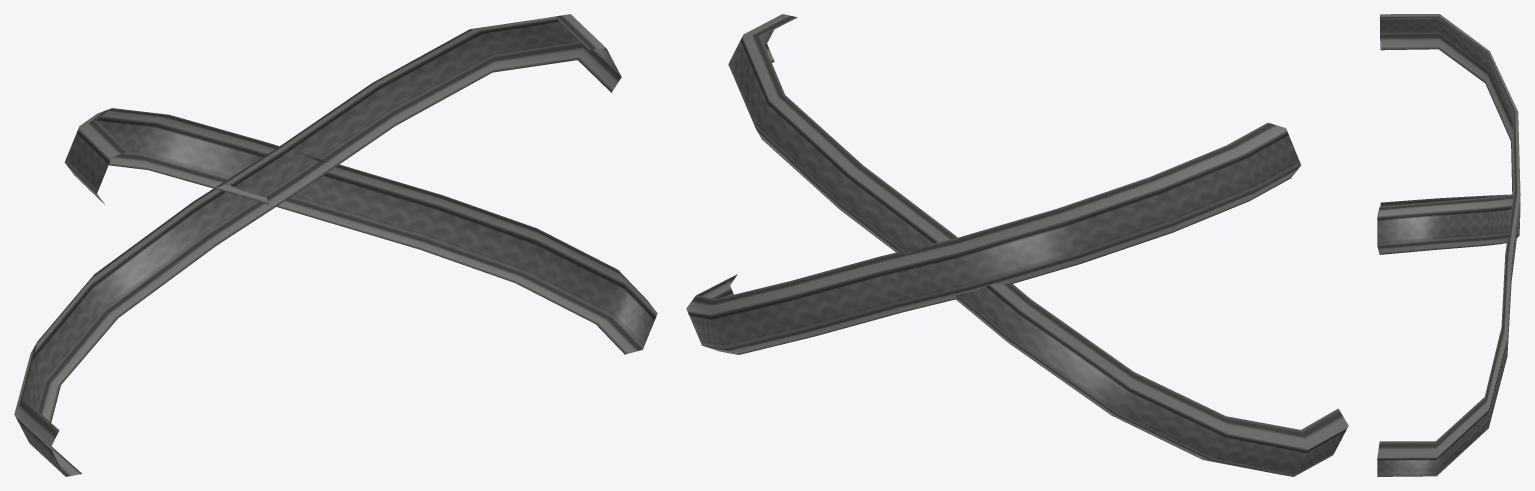
The model's file is armorceinturethighs.glb.
3 views of the same model, side by side, from view 1: azimuth 30°, elevation 25°; view 2: azimuth 150°, elevation 25°; view 3: azimuth 270°, elevation 25° (orthographic). The views are drawn at different scales.
Visible parts, largest first — view 1: armorceinturethighs; view 2: armorceinturethighs; view 3: armorceinturethighs.
Boxes of the visible parts, x1,y1,x2,y2 form: armorceinturethighs: [14, 14, 657, 476]; armorceinturethighs: [686, 14, 1348, 476]; armorceinturethighs: [1377, 14, 1520, 476].
Size of the model in its own units: 0.3347 by 0.1711 by 0.0849.
Materials: 1 (1 with a texture image).
